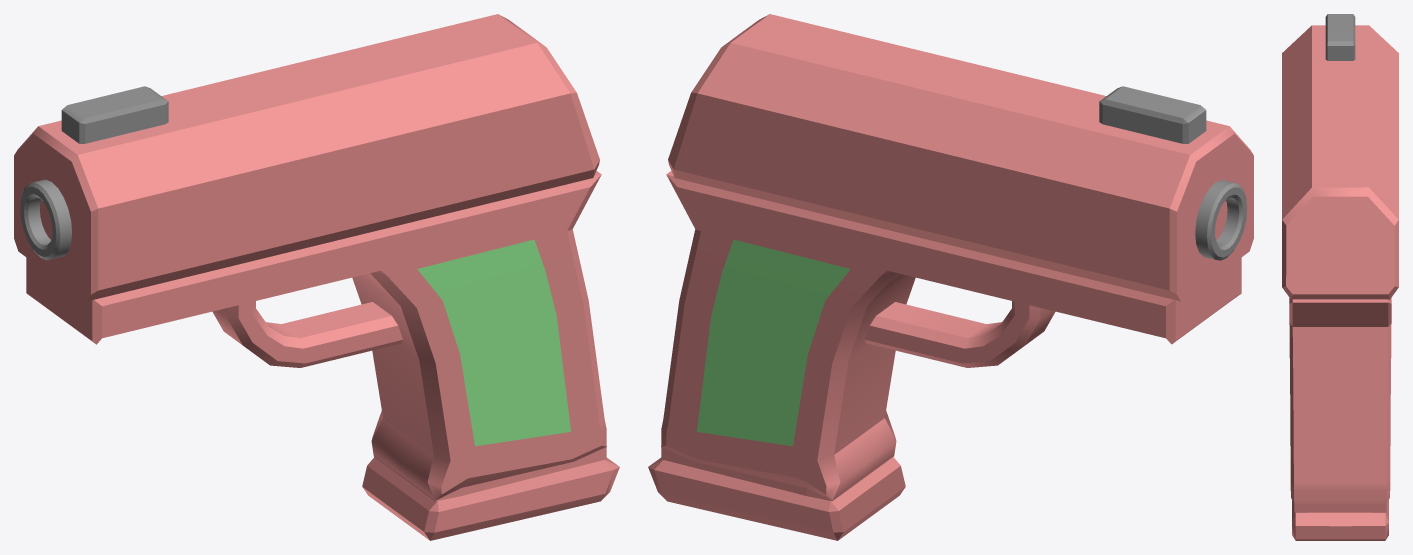
Rendered from SemiAutoPistol.fbx.
The picture shows the model from 3 angles, left to right: view 1: azimuth 30°, elevation 25°; view 2: azimuth 150°, elevation 25°; view 3: azimuth 270°, elevation 25°; orthographic projection. The views are drawn at different scales.
Parts seen in each view (by area): view 1: Pistol_Common_Mesh_; view 2: Pistol_Common_Mesh_; view 3: Pistol_Common_Mesh_.
Part boxes in pixels (x1,y1,x2,y2): Pistol_Common_Mesh_: [14, 14, 619, 540]; Pistol_Common_Mesh_: [648, 14, 1253, 540]; Pistol_Common_Mesh_: [1282, 14, 1398, 540].
Bounding box in the file's own units: 49.98 × 42.32 × 12.68.
